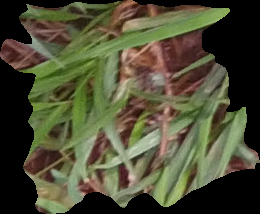grass: (1, 1, 259, 213)
